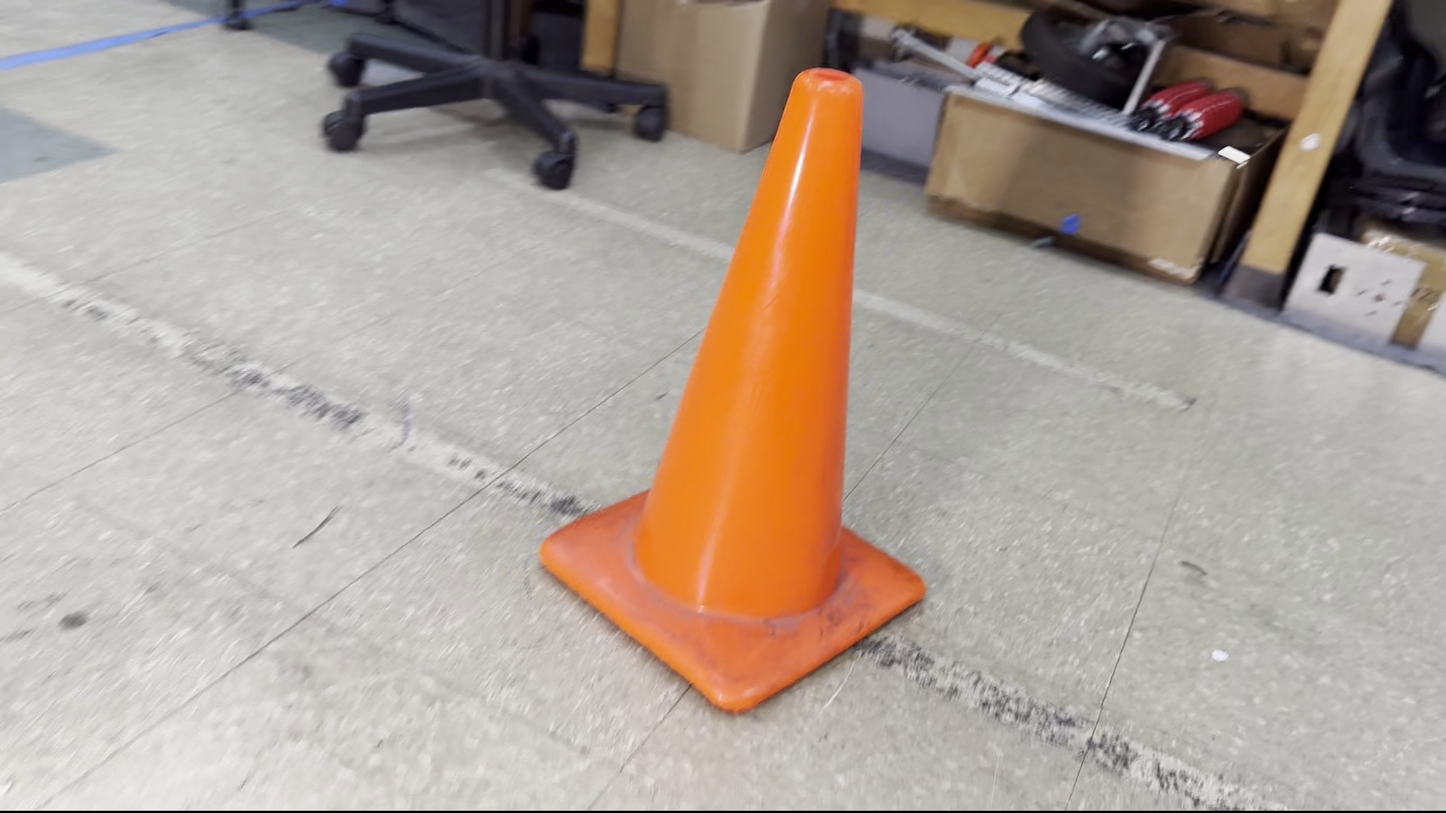traffic_cone: (538, 66, 928, 715)
